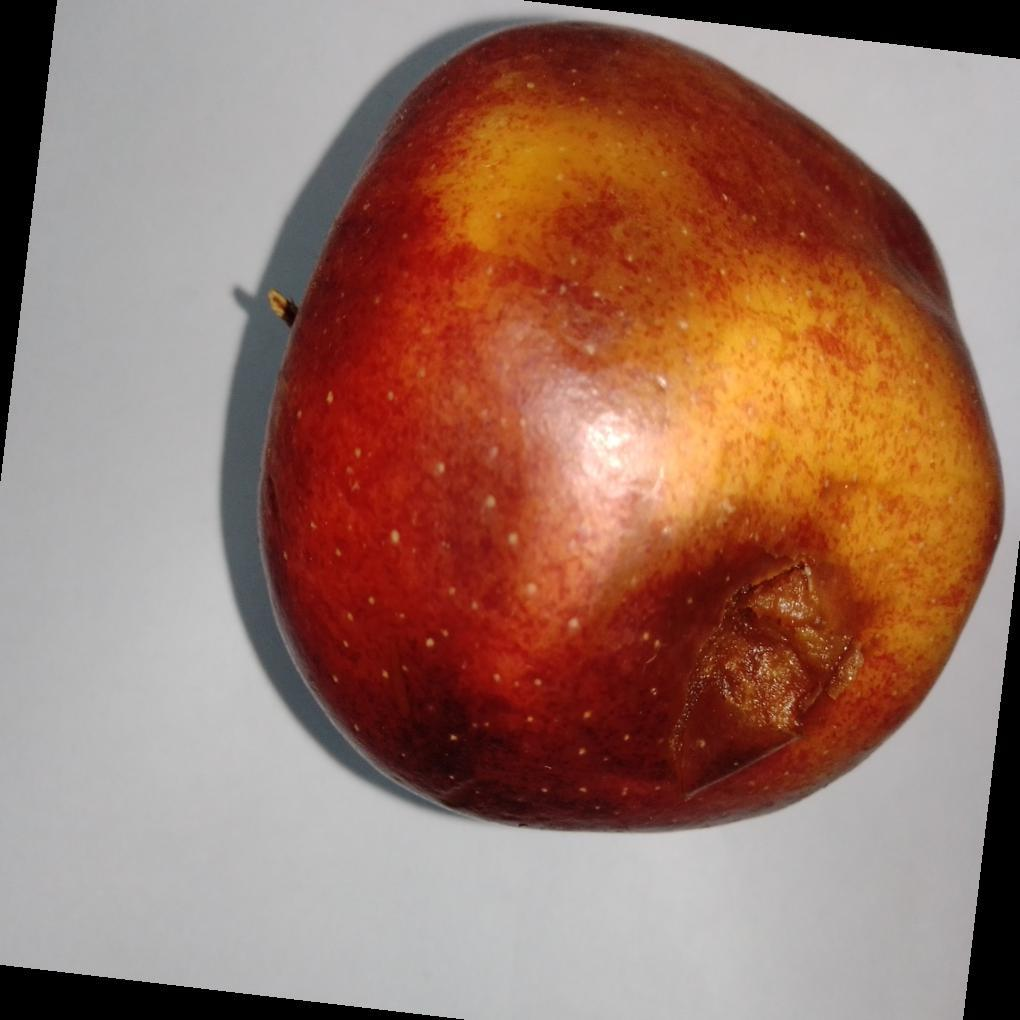FreshOrange: (251, 13, 1003, 838)
